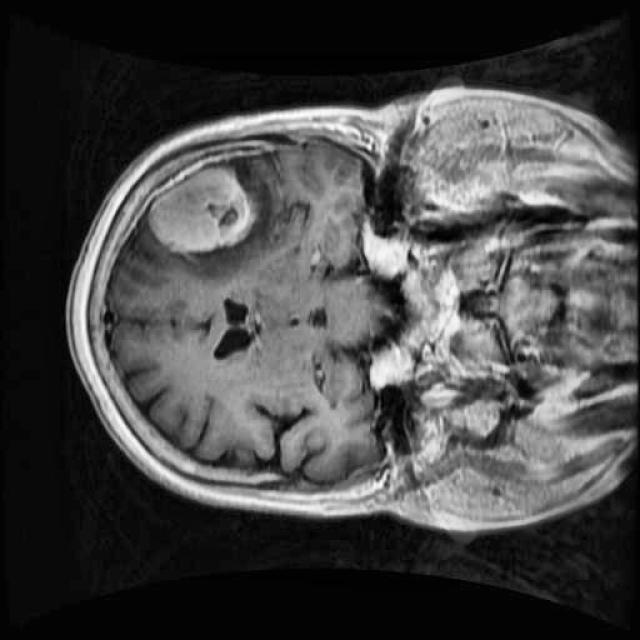Tumor: (128, 150, 268, 265)
